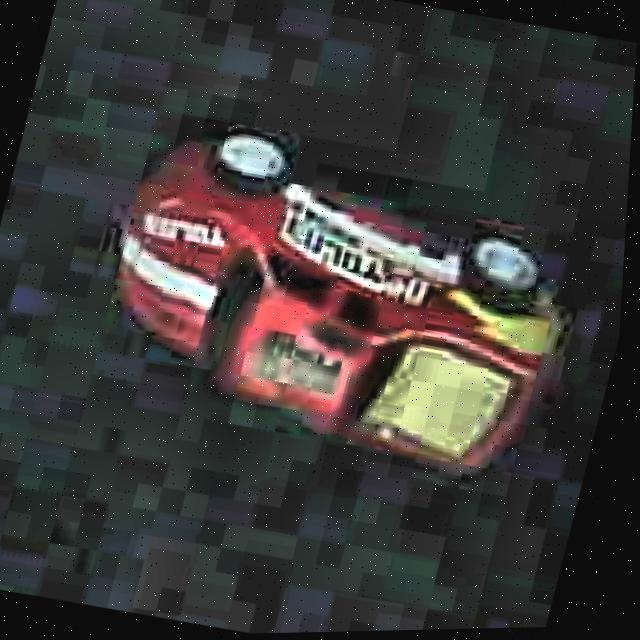car: (60, 85, 609, 504)
